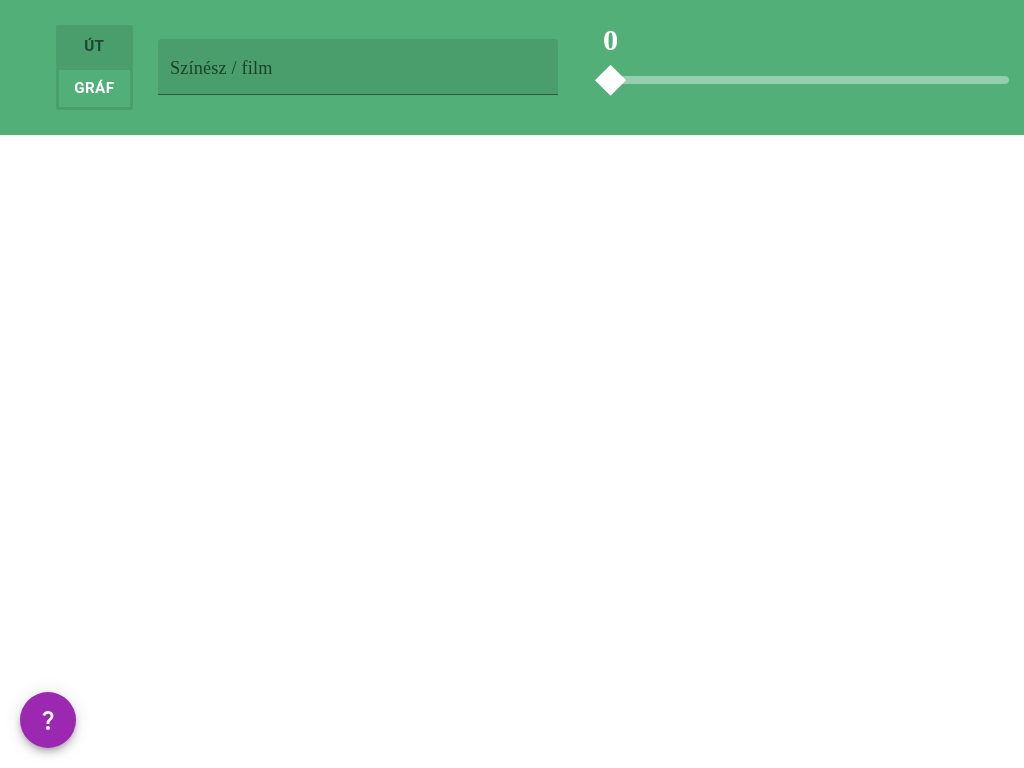
UI test › Switching between modes
Check: the button with id "graph-button" is disabled, box [56,67,132,110]
Check: the field with id "left" is shown, box [158,39,558,95]
Click the button "Út" at (94, 47), box [56,25,132,68]
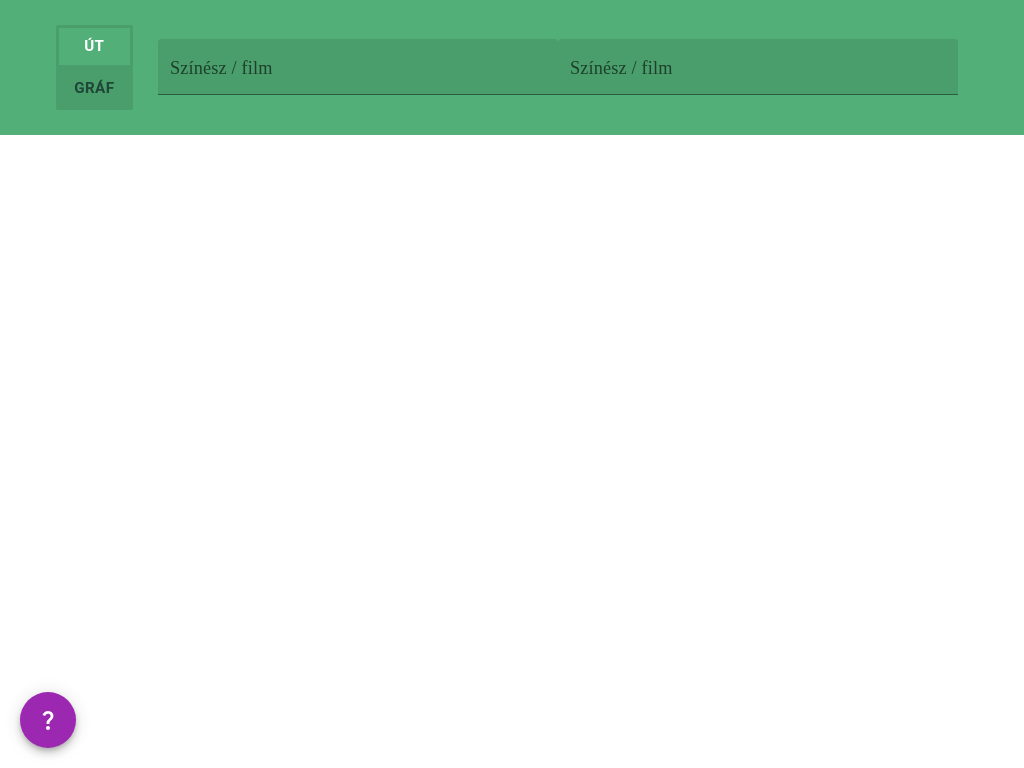
Check: the button "Út" is disabled, box [56,25,132,68]
Check: the button with id "graph-button" is enabled
Check: the field with id "right" is shown, box [558,39,958,95]
Click the button with id "graph-button" at (94, 89), box [56,67,132,110]
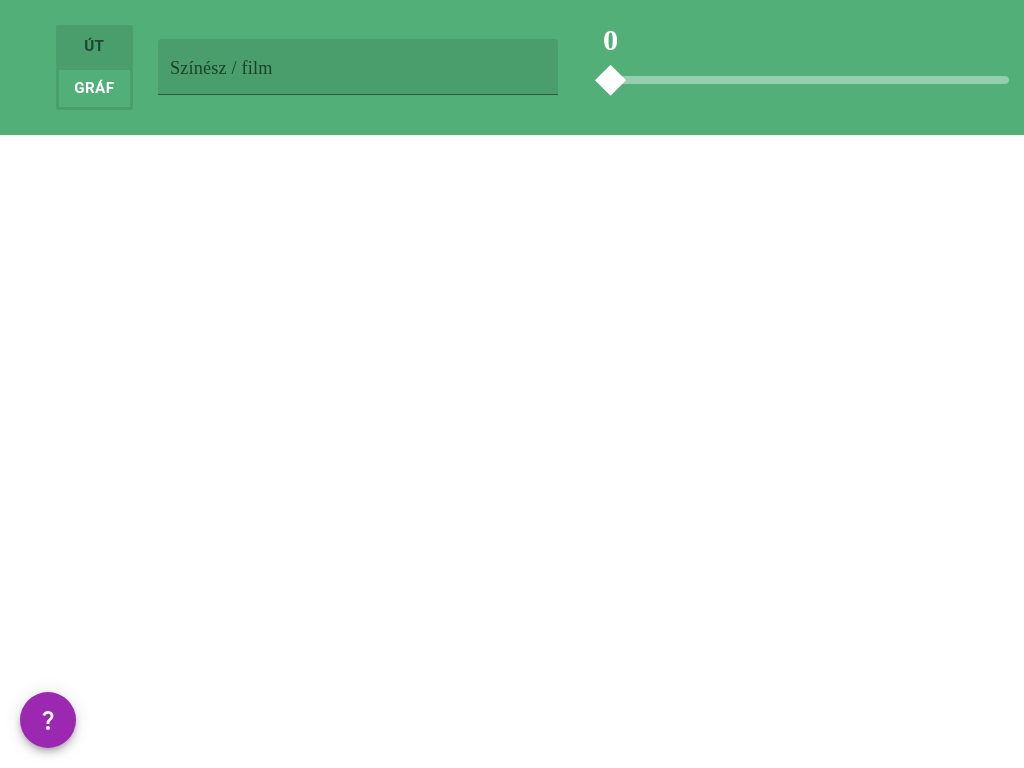
Check: the button "Út" is enabled, box [56,25,132,68]
Check: the button with id "graph-button" is disabled, box [56,67,132,110]
Check: the label with id "right" is gone
